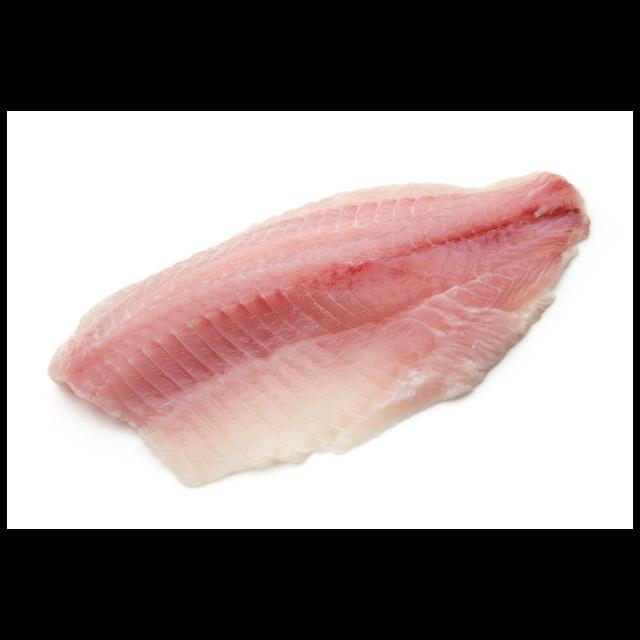fish: (37, 156, 591, 499)
